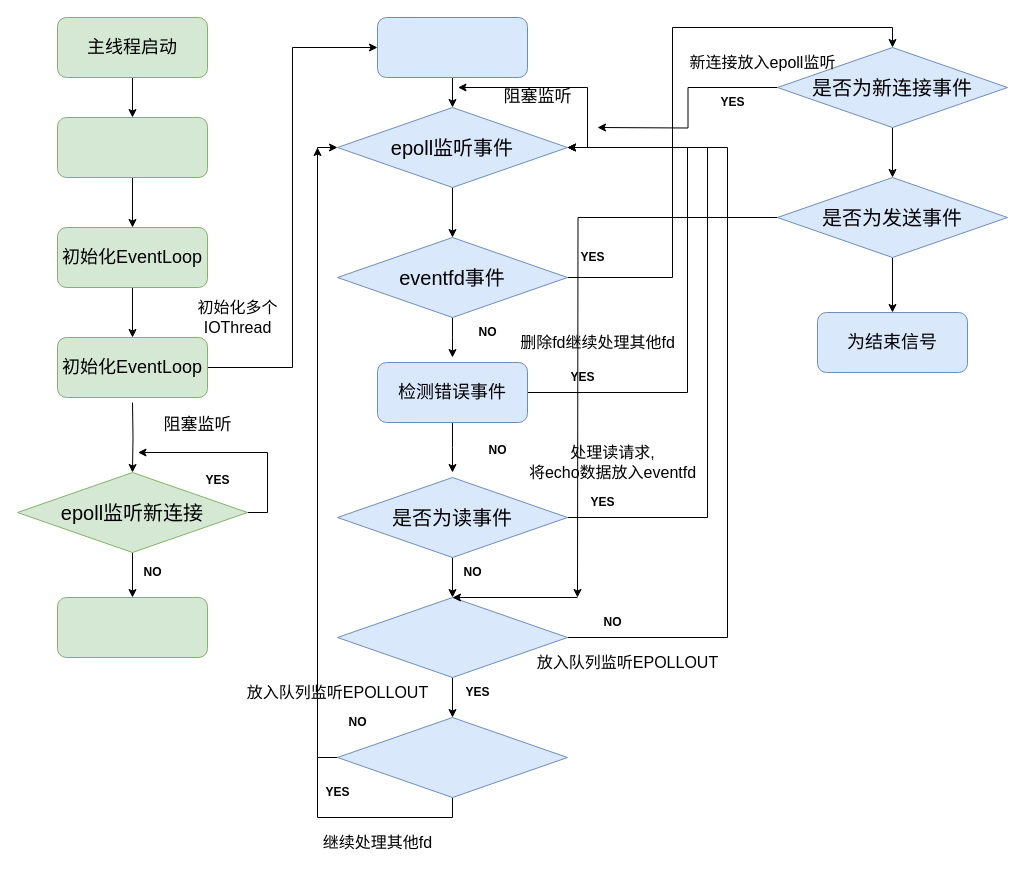
The diagram is 1025 pixels wide and 875 high, and some of its shapes have lost their labels. Here are the shapes that lost their labels. From the top down, the box of each, then its label:
(376, 16, 528, 78): 启动初始化IOThread
(56, 116, 208, 178): 初始化epoll
(56, 596, 208, 658): 通知子线程
(336, 596, 568, 678): 是否可以直接发送
(336, 716, 568, 798): 是否发送完全
